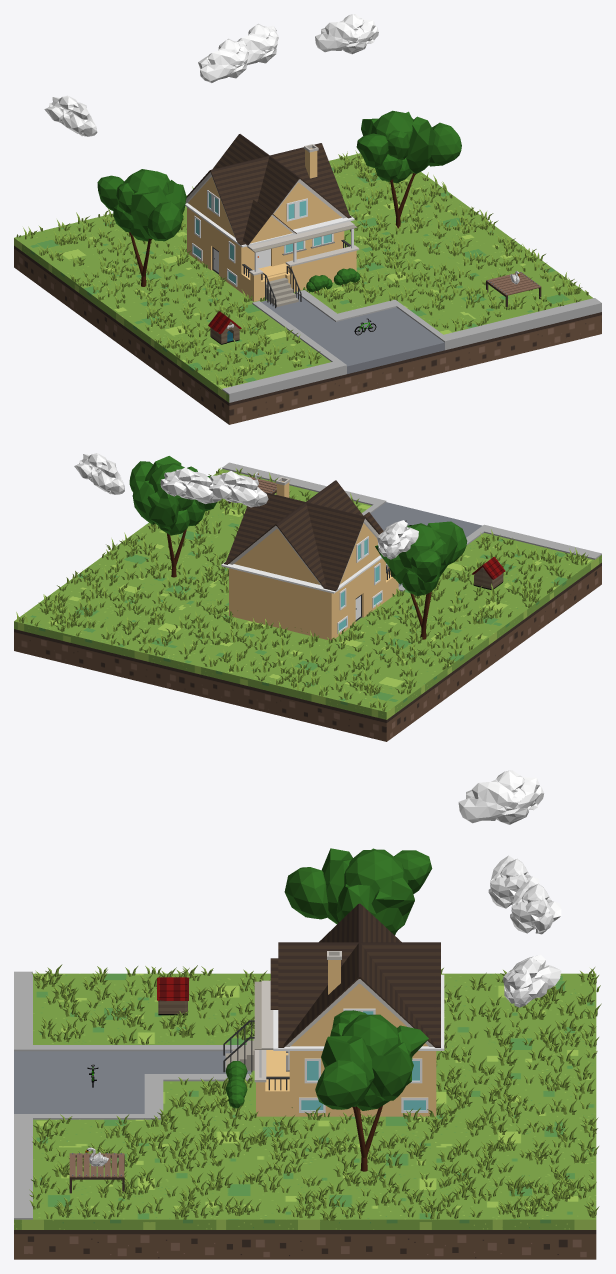
3 views of the same model, one above another, from view 1: azimuth 30°, elevation 25°; view 2: azimuth 150°, elevation 25°; view 3: azimuth 270°, elevation 25° (orthographic). The views are drawn at different scales.
Parts seen in each view (by area): view 1: Cube.006, Cube.235, Circle.012_Grass_0.192, Cube.007, tree, tree.001, Cube.009, OBJRANDOM_DOGHOUSE; view 2: Cube.006, Cube.235, Circle.012_Grass_0.192, Cube.007, tree.001, tree, OBJRANDOM_DOGHOUSE; view 3: Cube.006, Circle.012_Grass_0.192, Cube.235, tree, Cube.007, tree.001, Cube.009, OBJRANDOM_DOGHOUSE.
Boxes of the visible parts, <box> form: Cube.006: <box>14,153,601,424</box>; Cube.235: <box>185,134,359,308</box>; Circle.012_Grass_0.192: <box>16,150,588,386</box>; Cube.007: <box>44,14,378,136</box>; tree: <box>356,110,461,228</box>; tree.001: <box>97,169,186,286</box>; Cube.009: <box>486,272,541,306</box>; OBJRANDOM_DOGHOUSE: <box>208,311,241,344</box>; Cube.006: <box>14,462,601,741</box>; Cube.235: <box>221,477,398,640</box>; Circle.012_Grass_0.192: <box>16,468,588,711</box>; Cube.007: <box>74,453,418,559</box>; tree.001: <box>375,521,467,639</box>; tree: <box>129,456,216,577</box>; OBJRANDOM_DOGHOUSE: <box>472,556,505,589</box>; Cube.006: <box>14,971,596,1259</box>; Circle.012_Grass_0.192: <box>29,964,601,1220</box>; Cube.235: <box>223,903,444,1116</box>; tree: <box>315,1010,428,1171</box>; Cube.007: <box>458,770,561,1007</box>; tree.001: <box>284,848,432,935</box>; Cube.009: <box>69,1153,124,1193</box>; OBJRANDOM_DOGHOUSE: <box>157,977,188,1015</box>.
Bounding box in the file's own units: 4071 × 2126 × 4040.
Materials: 37 (4 with a texture image).
